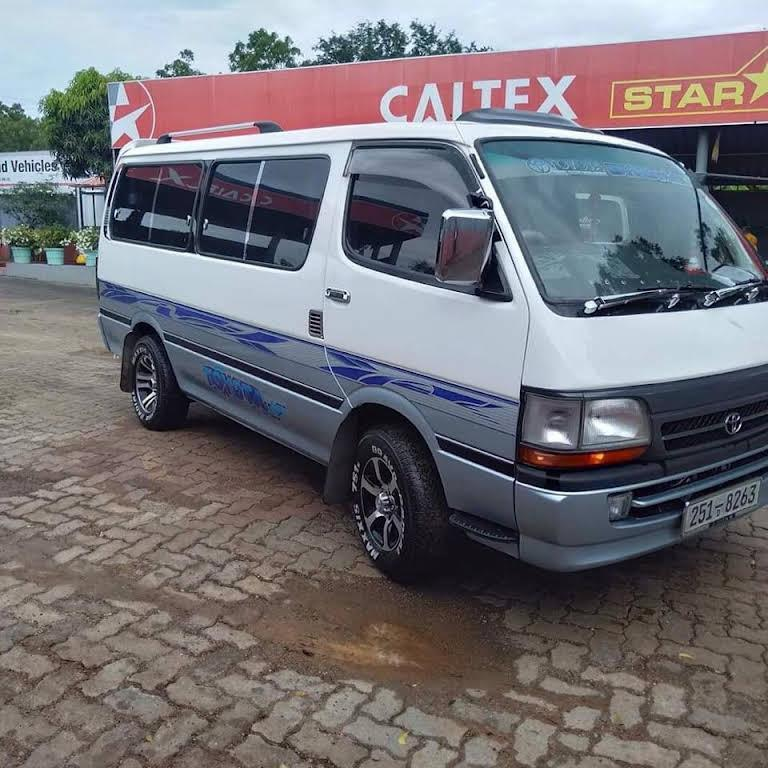car: (98, 115, 768, 597)
